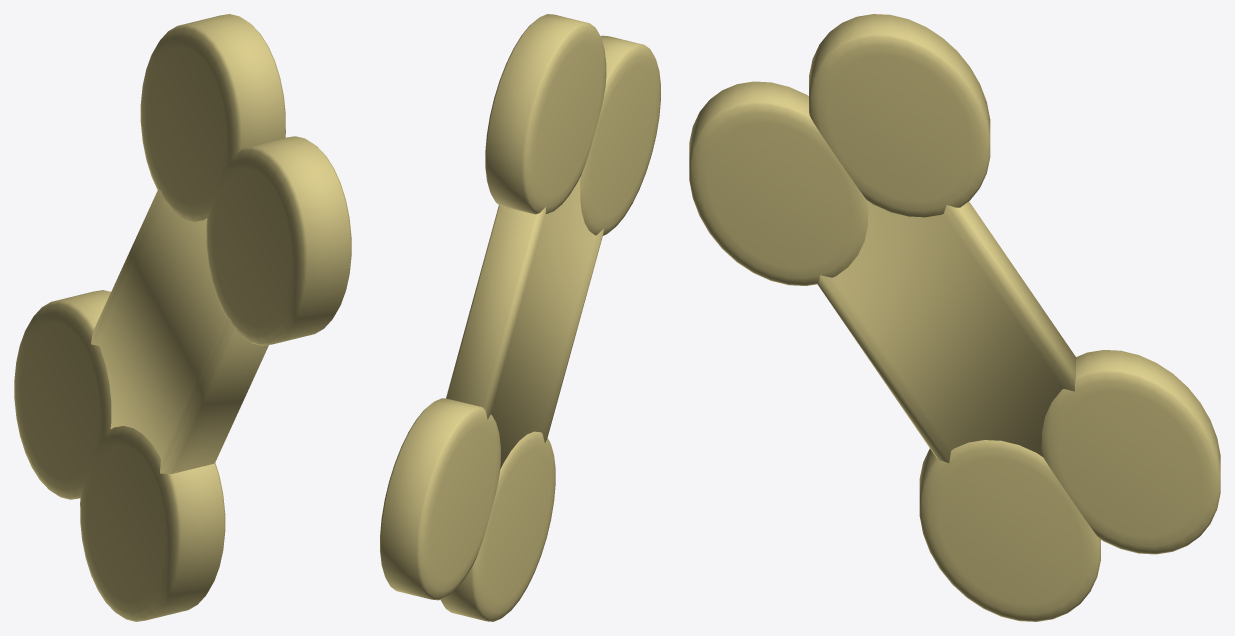
File: Kość v2.obj
The picture shows the model from 3 angles, left to right: view 1: azimuth 30°, elevation 25°; view 2: azimuth 150°, elevation 25°; view 3: azimuth 270°, elevation 25°; orthographic projection. The views are drawn at different scales.
Parts seen in each view (by area): view 1: Cube_Cube.001, Cylinder.002_Cylinder.003, Cylinder.001_Cylinder.002, Cylinder.003_Cylinder.004, Cylinder_Cylinder.001; view 2: Cube_Cube.001, Cylinder_Cylinder.001, Cylinder.003_Cylinder.004, Cylinder.001_Cylinder.002, Cylinder.002_Cylinder.003; view 3: Cube_Cube.001, Cylinder.003_Cylinder.004, Cylinder_Cylinder.001, Cylinder.002_Cylinder.003, Cylinder.001_Cylinder.002.
Boxes of the visible parts, box(x1,y1,x2,y2) form: Cube_Cube.001: box(91, 190, 268, 474); Cylinder.002_Cylinder.003: box(206, 136, 351, 345); Cylinder.001_Cylinder.002: box(80, 426, 225, 621); Cylinder.003_Cylinder.004: box(140, 14, 285, 221); Cylinder_Cylinder.001: box(14, 290, 111, 499); Cube_Cube.001: box(446, 177, 603, 468); Cylinder_Cylinder.001: box(380, 398, 500, 600); Cylinder.003_Cylinder.004: box(485, 14, 606, 214); Cylinder.001_Cylinder.002: box(440, 431, 555, 621); Cylinder.002_Cylinder.003: box(580, 35, 660, 235); Cube_Cube.001: box(817, 200, 1075, 462); Cylinder.003_Cylinder.004: box(809, 14, 990, 217); Cylinder_Cylinder.001: box(1041, 350, 1220, 554); Cylinder.002_Cylinder.003: box(689, 81, 868, 285); Cylinder.001_Cylinder.002: box(919, 440, 1100, 621).
Bounding box in the file's own units: 0.686 × 7.82 × 6.4.
